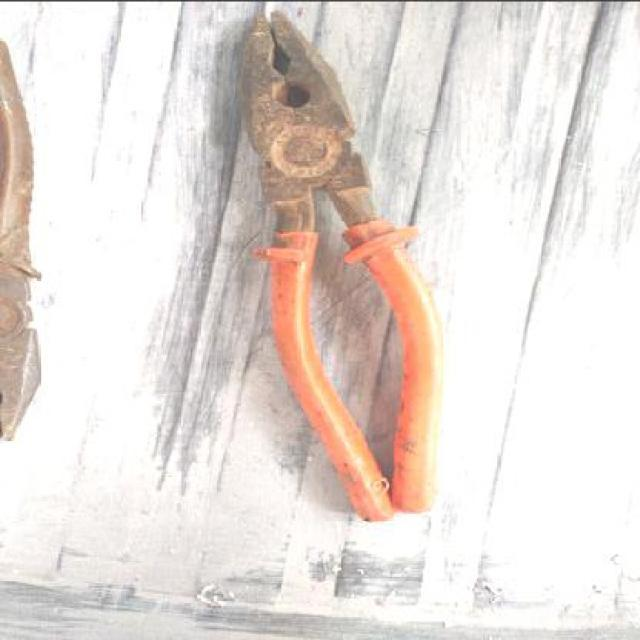pliers: (236, 12, 439, 522)
